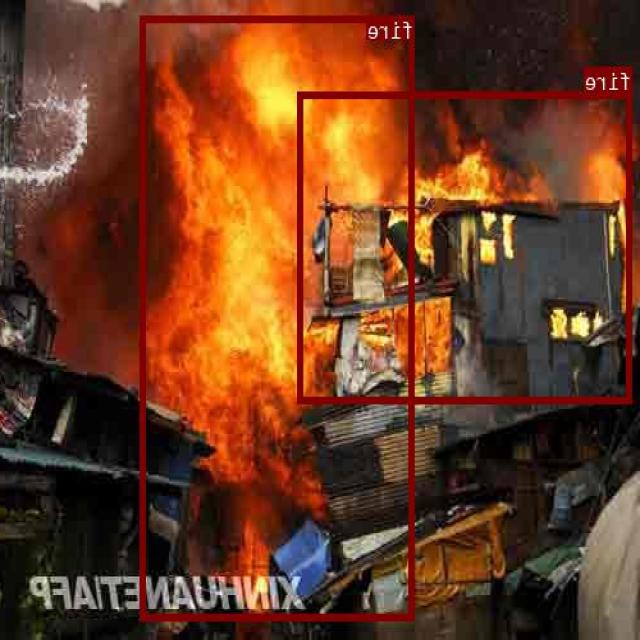fire: (141, 15, 415, 619), (299, 90, 633, 402)
